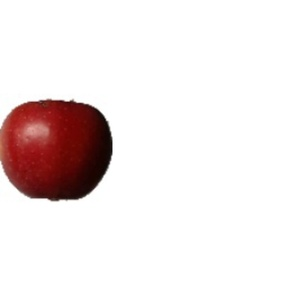maçã braeburn: (1, 97, 115, 208)
